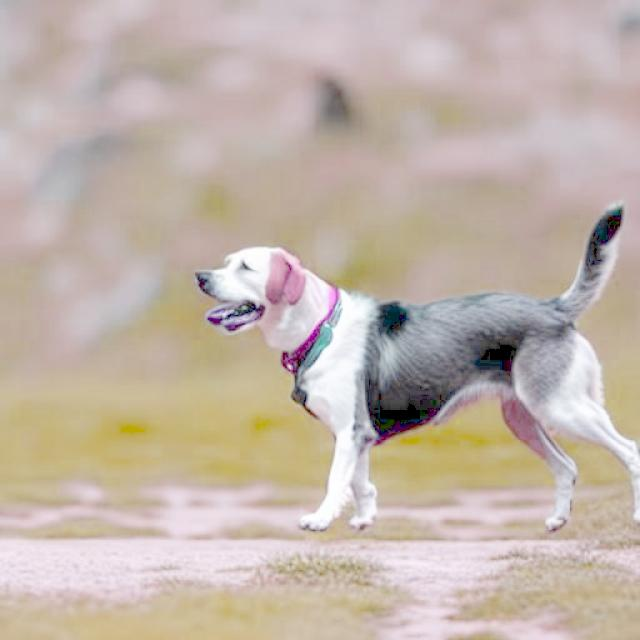Dog: (193, 201, 640, 533)
